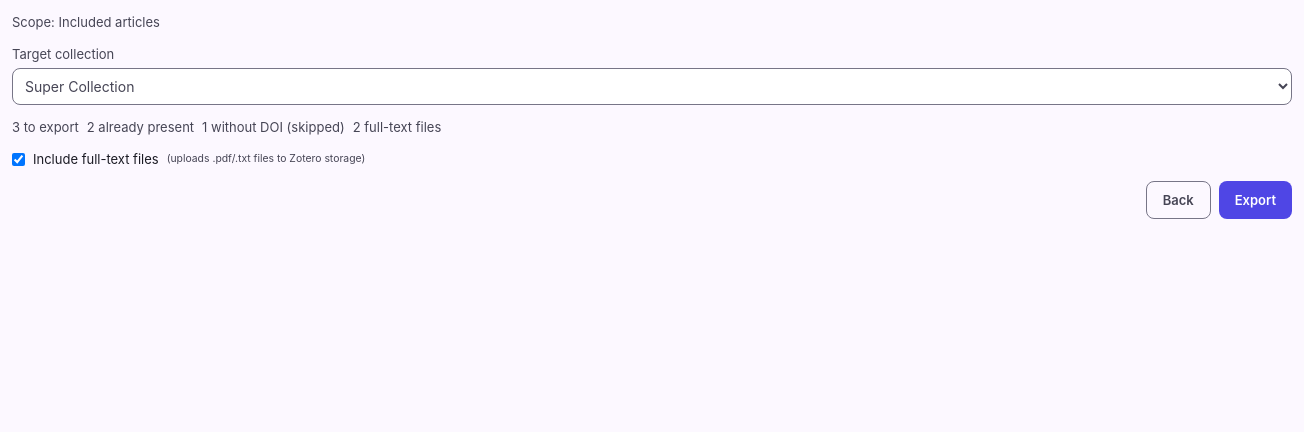
Test case: zotero-export-panel.vue › result_summary_includes_note_counts
The image size is (1304, 432).
Click the button with test id "export-button": (1255, 200) 1219,181 -> 1292,219
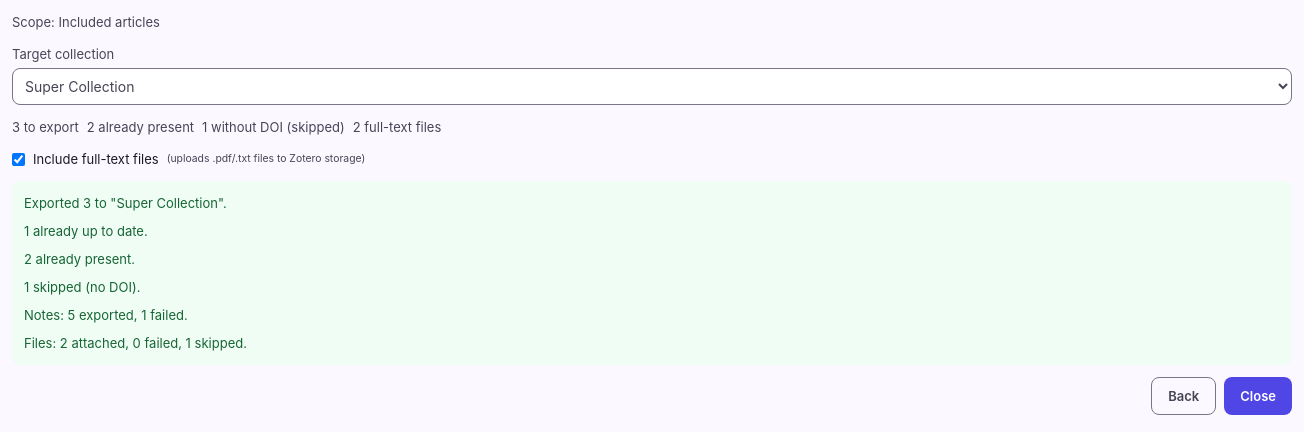
expect the element with test id "result" is shown: met, box 12,181 -> 1292,365
expect the element with test id "result" shows "Notes: 5 exported, 1 failed": met, box 24,307 -> 188,323
